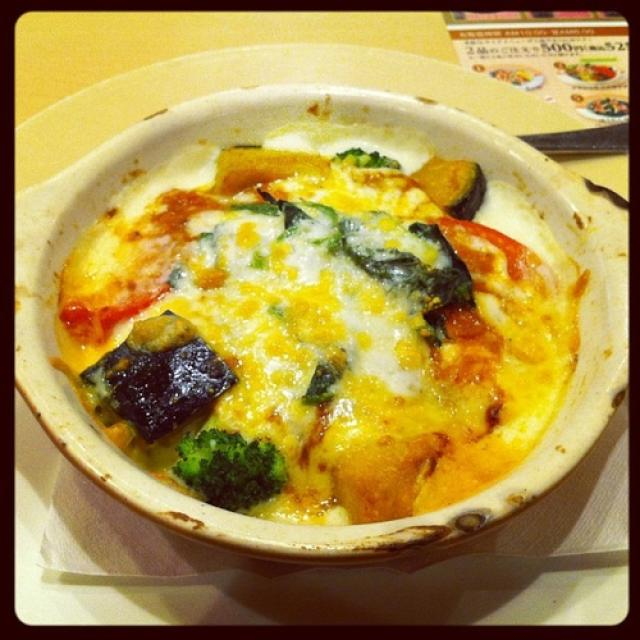米饭主食: (41, 92, 612, 554)
